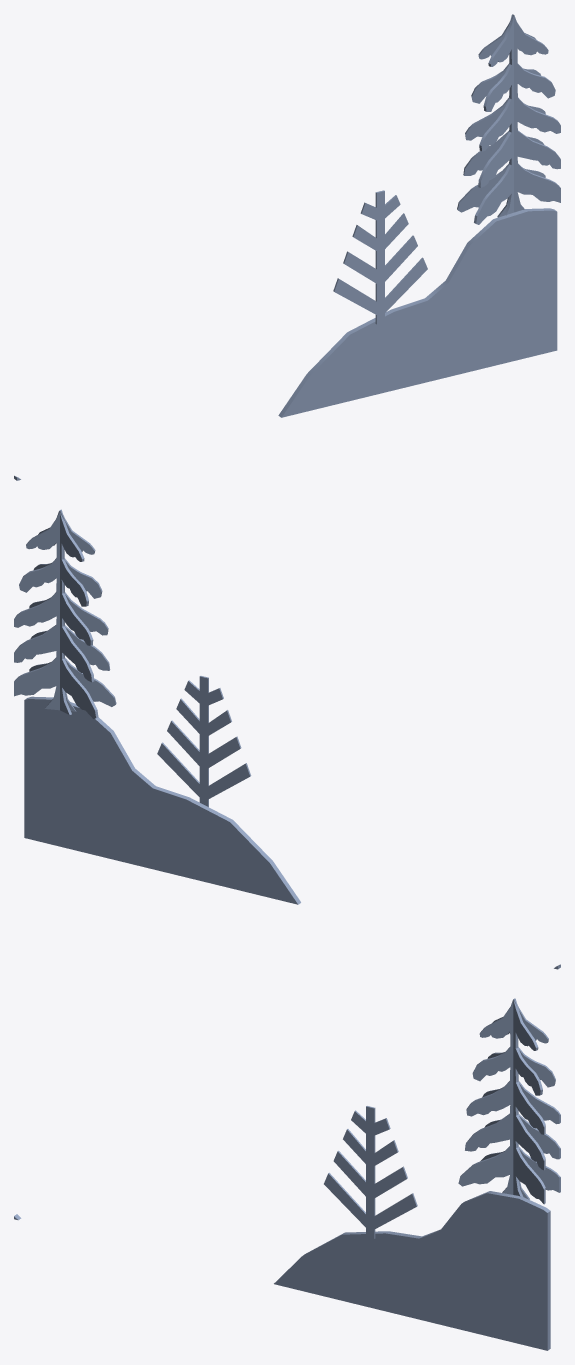
Rendered from frame_0148.glb.
3 renders of one model, top to bottom at view 1: azimuth 30°, elevation 25°; view 2: azimuth 150°, elevation 25°; view 3: azimuth 330°, elevation 25°, orthographic.
Parts seen in each view (by area): view 1: export_trees_001.002; view 2: export_trees_001.002; view 3: export_trees_001.002.
Boxes of the visible parts, <box> form: export_trees_001.002: <box>14,14,560,480</box>; export_trees_001.002: <box>14,509,560,969</box>; export_trees_001.002: <box>14,998,560,1350</box>.
Bounding box in the file's own units: 0.4327 × 0.2619 × 0.0277.
